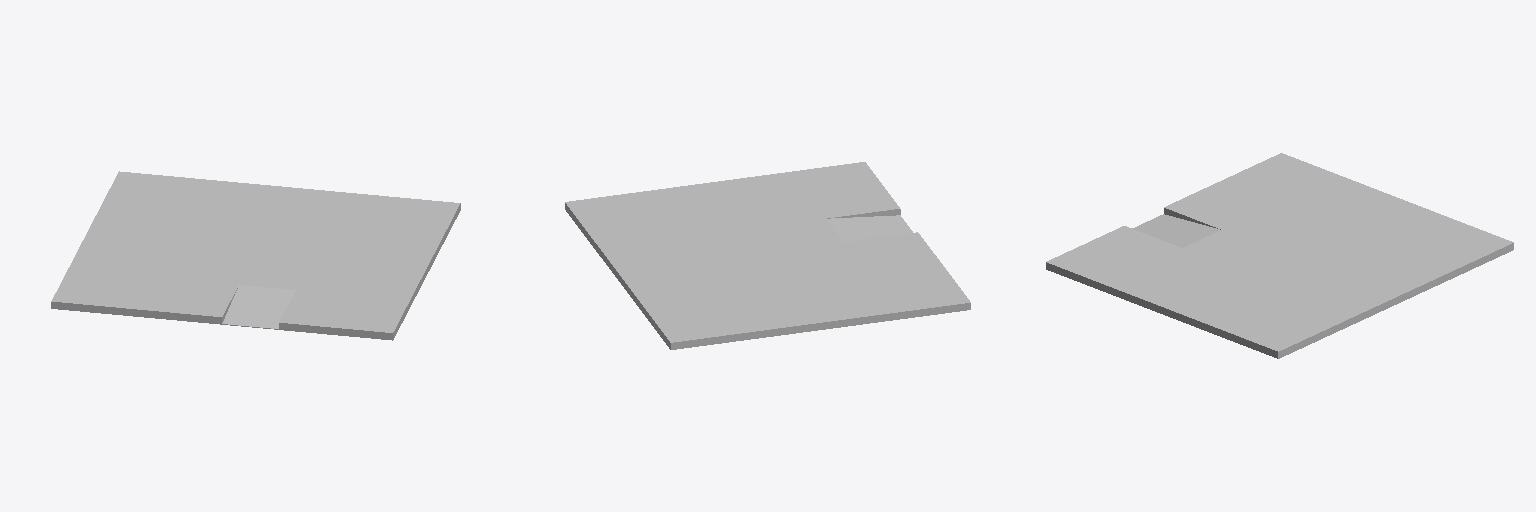
File: bookshelf_floor.obj
The picture shows the model from 3 angles: view 1: azimuth 30°, elevation 25°; view 2: azimuth 150°, elevation 25°; view 3: azimuth 270°, elevation 25°; orthographic projection.
Parts seen in each view (by area): view 1: bookshelf_floor; view 2: bookshelf_floor; view 3: bookshelf_floor.
Part boxes in pixels (x1,y1,x2,y2): bookshelf_floor: (51, 171, 460, 340); bookshelf_floor: (565, 162, 970, 349); bookshelf_floor: (1046, 153, 1513, 358).
Size of the model in its own units: 81.31 by 1.4 by 80.92.